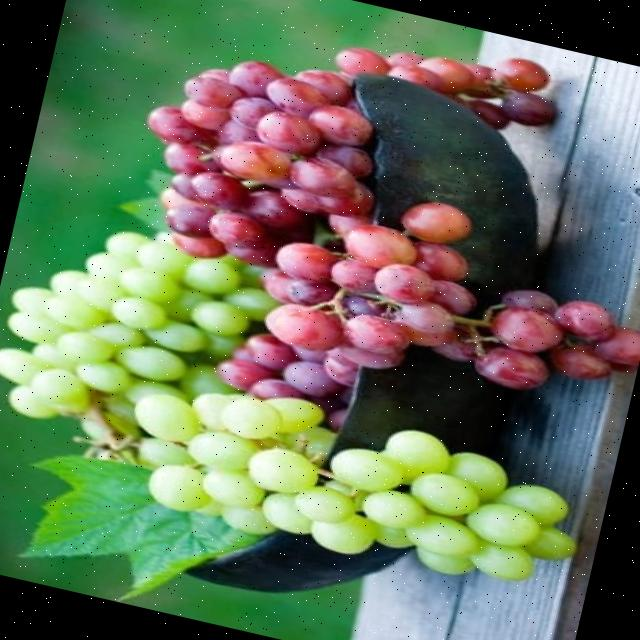grape: (0, 48, 639, 580), (133, 394, 571, 580), (176, 253, 264, 313), (181, 321, 263, 364)
